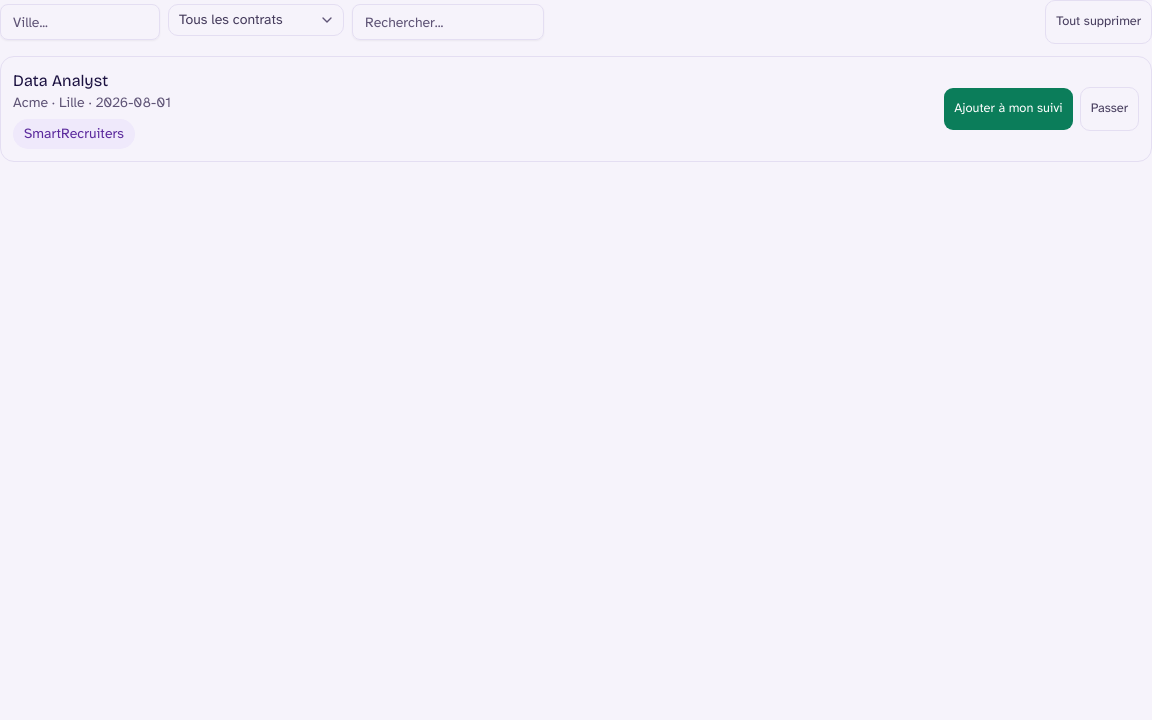
Test: ReviewQueueManager — tout supprimer (relancer une campagne avec de nouveaux filtres) › asks for confirmation before deleting anything
The width and height of the screenshot is (1152, 720).
Click the button "Tout supprimer". click: (1099, 22)
box: [1045,0,1151,44]
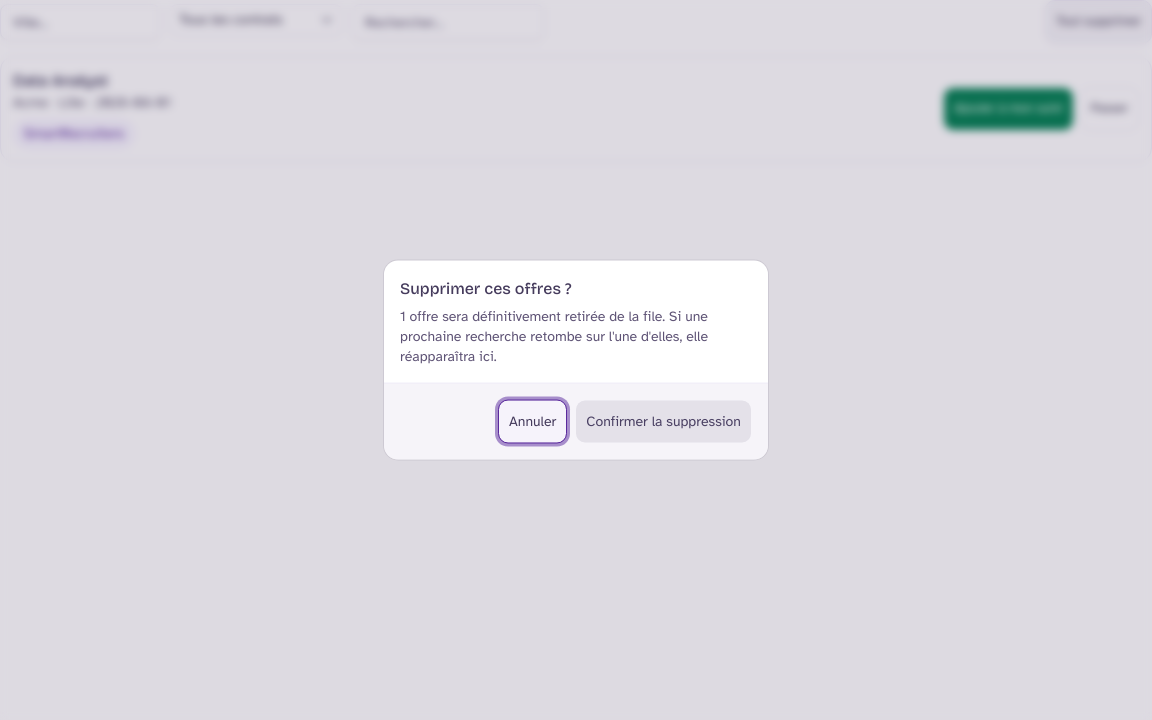
Expected: the dialog is shown, [384,260,768,460]
